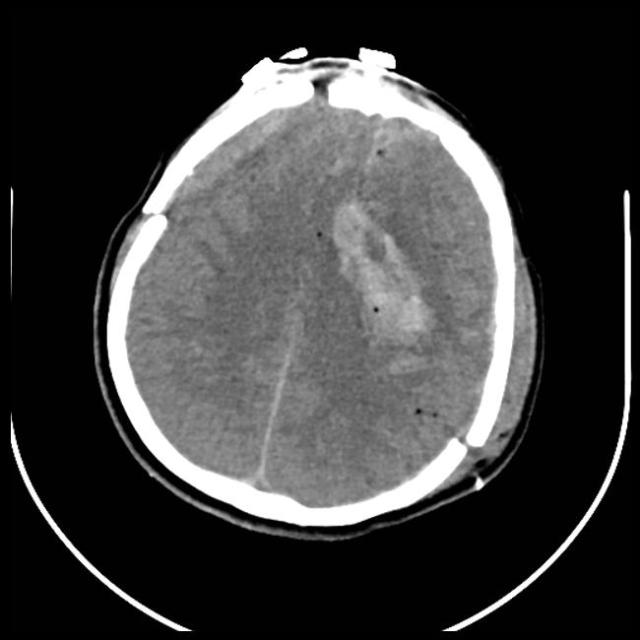lesion: (92, 47, 544, 534)
